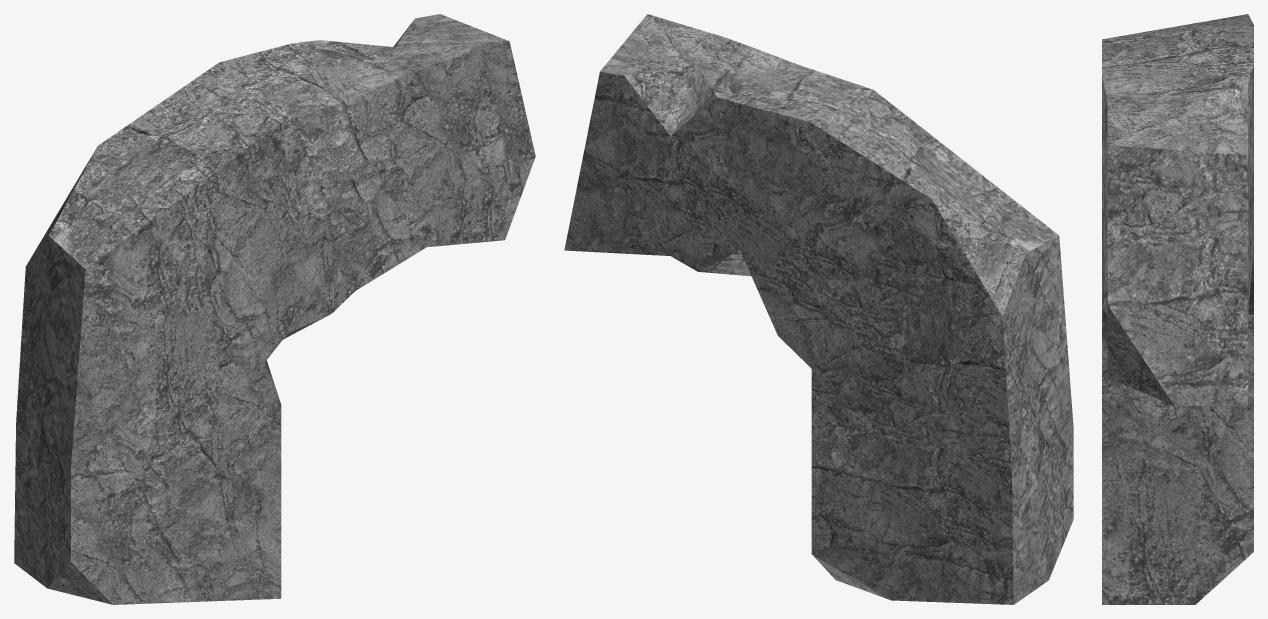
Rendered from materials_3_rubble_25.fbx.
The picture shows the model from 3 angles, left to right: view 1: azimuth 30°, elevation 25°; view 2: azimuth 150°, elevation 25°; view 3: azimuth 270°, elevation 25°; orthographic projection. The views are drawn at different scales.
Parts seen in each view (by area): view 1: materials_3_rubble_25; view 2: materials_3_rubble_25; view 3: materials_3_rubble_25.
Part boxes in pixels (x1,y1,x2,y2): materials_3_rubble_25: [14, 14, 535, 604]; materials_3_rubble_25: [564, 14, 1073, 604]; materials_3_rubble_25: [1102, 14, 1253, 604].
Size of the model in its own units: 139 by 143 by 33.06.
